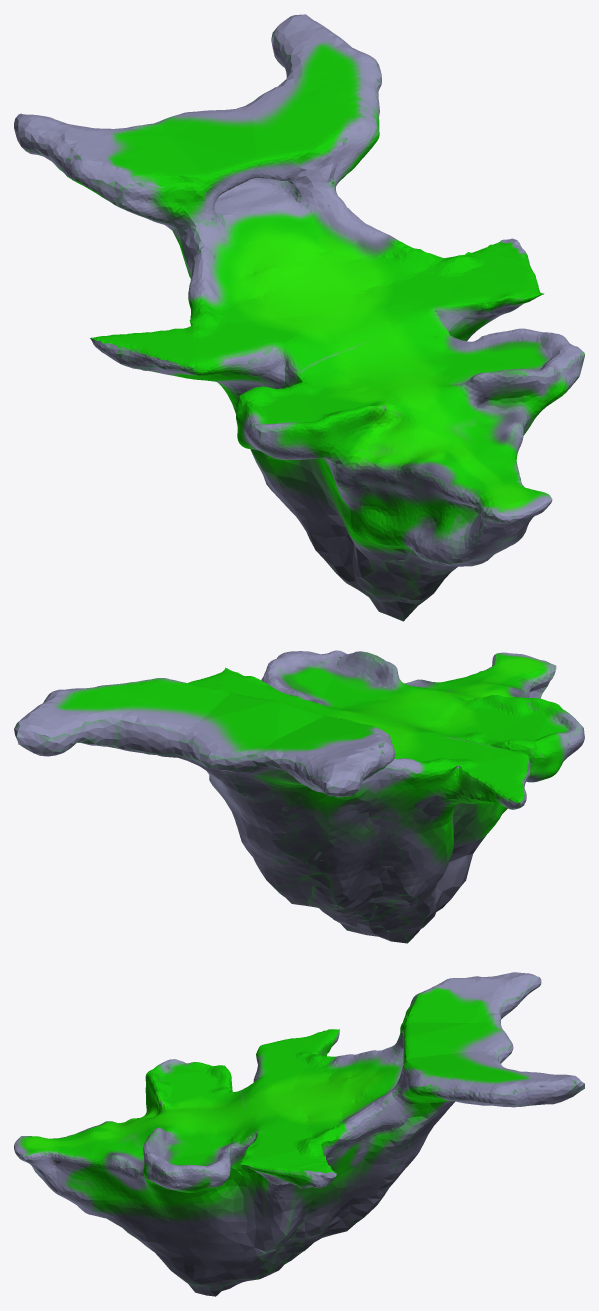
The model's file is Isles of Apollo.obj.
The picture shows the model from 3 angles, top to bottom: view 1: azimuth 30°, elevation 25°; view 2: azimuth 150°, elevation 25°; view 3: azimuth 270°, elevation 25°; orthographic projection. The views are drawn at different scales.
Visible parts, largest first — view 1: iSLES_OF_APOLLO3_Plane.006_Material.001; view 2: iSLES_OF_APOLLO3_Plane.006_Material.001; view 3: iSLES_OF_APOLLO3_Plane.006_Material.001.
Part boxes in pixels (x1,y1,x2,y2): iSLES_OF_APOLLO3_Plane.006_Material.001: [14, 14, 584, 621]; iSLES_OF_APOLLO3_Plane.006_Material.001: [14, 650, 584, 943]; iSLES_OF_APOLLO3_Plane.006_Material.001: [14, 972, 584, 1296].
Size of the model in its own units: 10.28 by 8.79 by 16.82.
